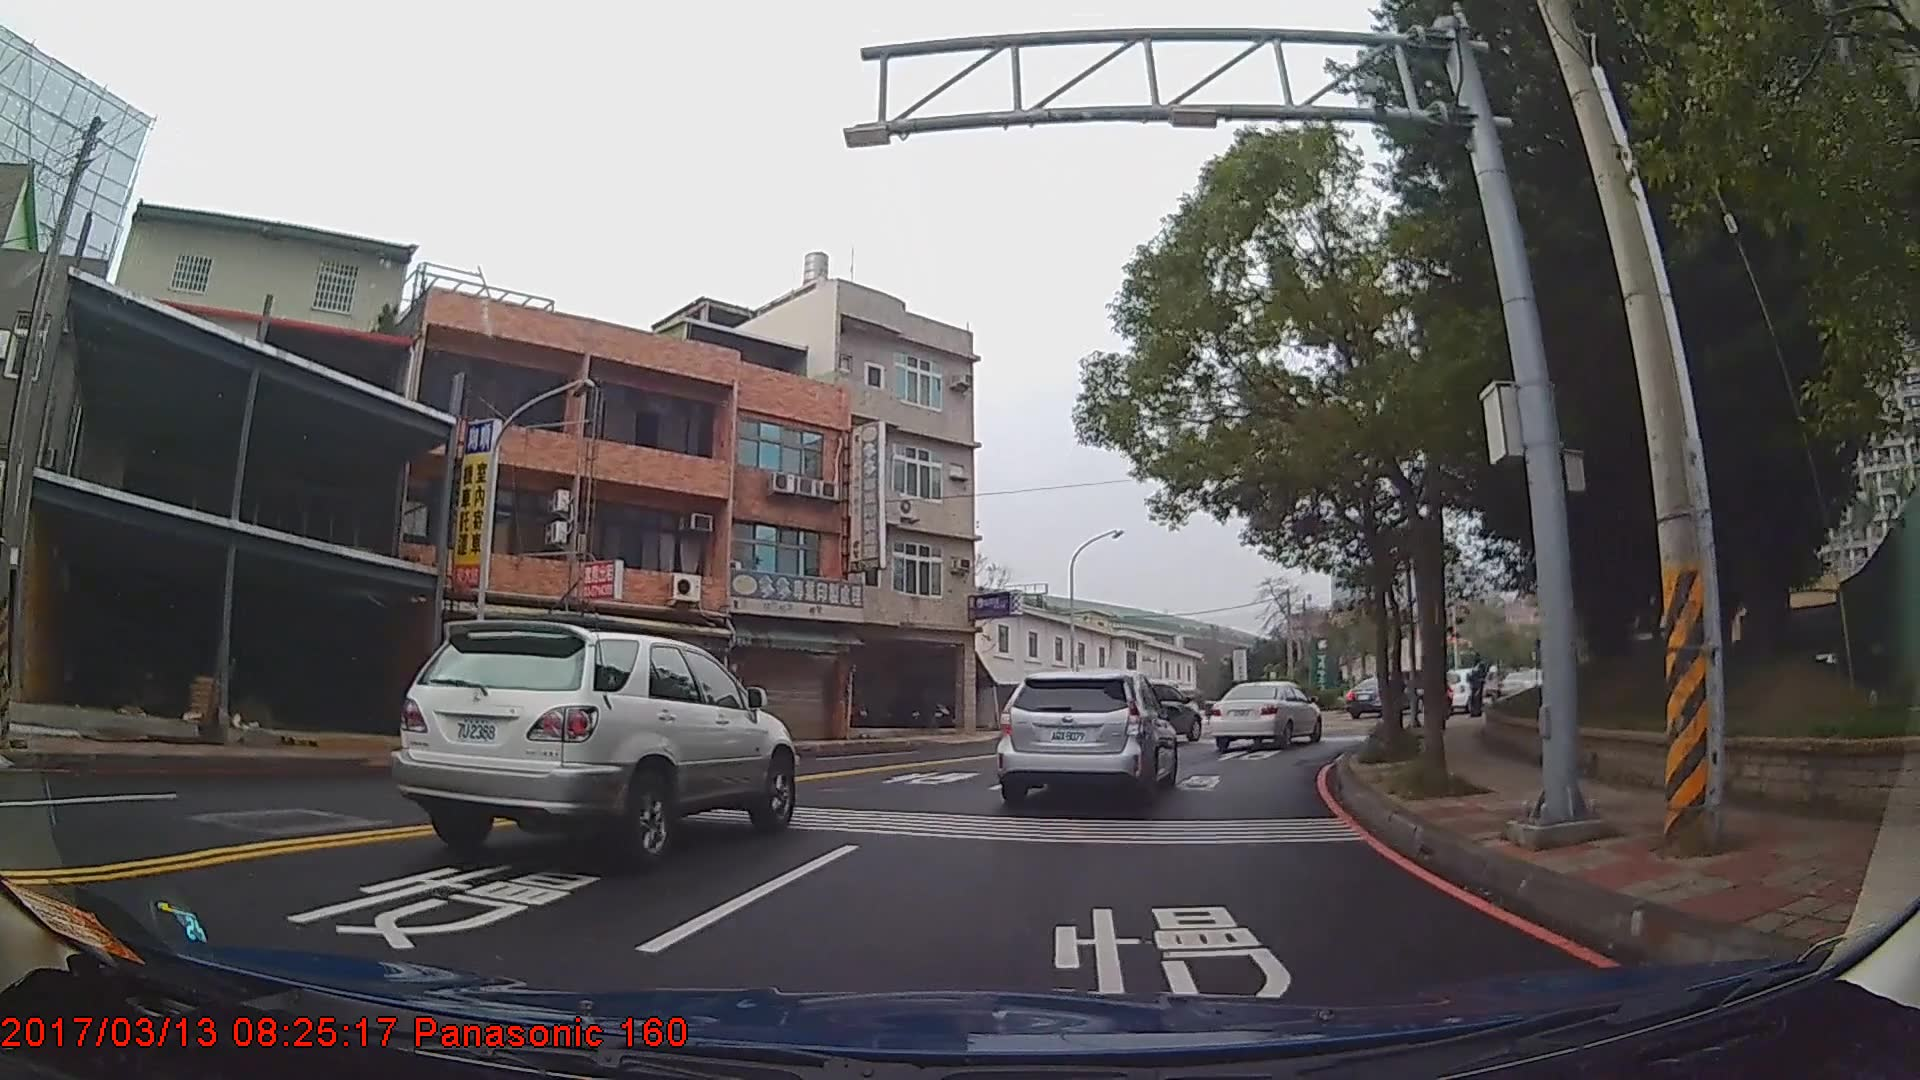vehicle: (392, 617, 796, 866), (986, 666, 1172, 811), (1203, 679, 1320, 750), (1341, 676, 1408, 717)
